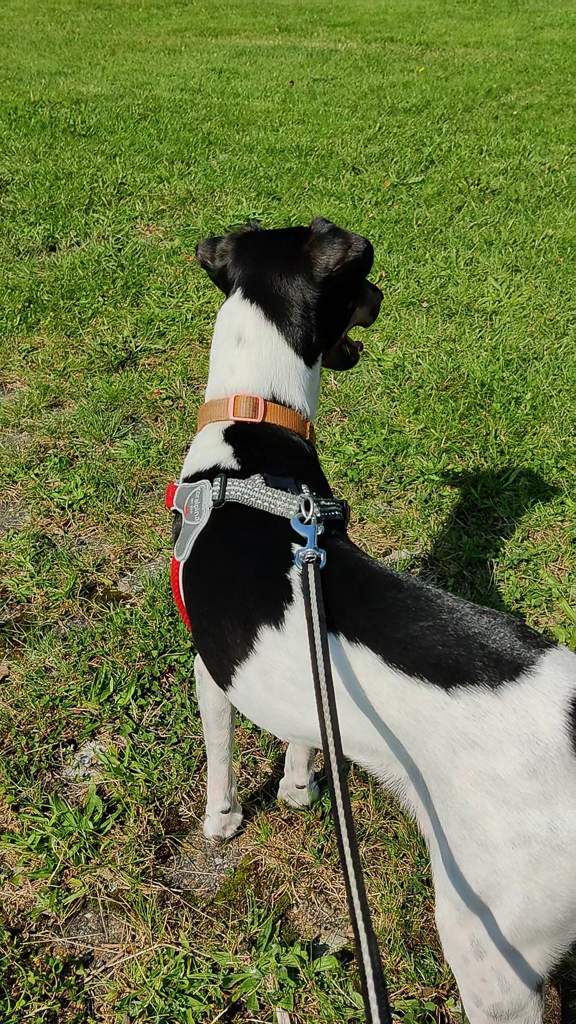Dog: (138, 208, 576, 1024)
